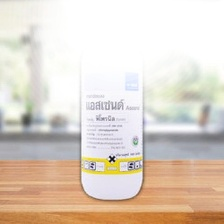insecticide: (76, 17, 147, 203)
